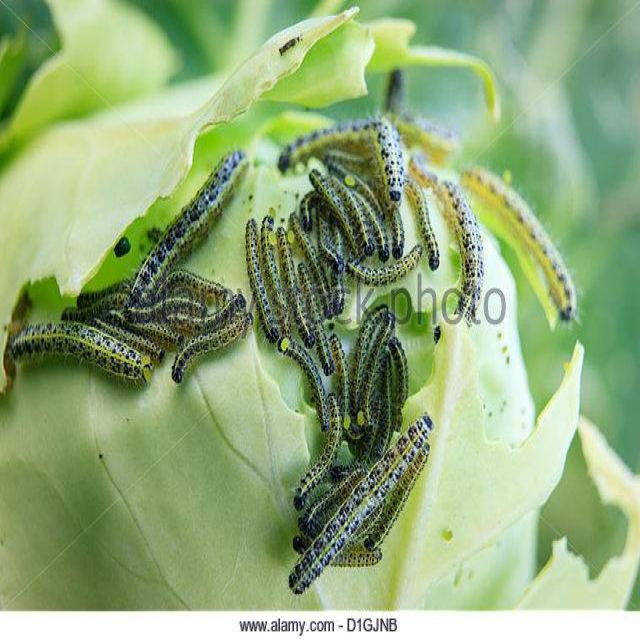armyworm: (11, 91, 596, 602)
